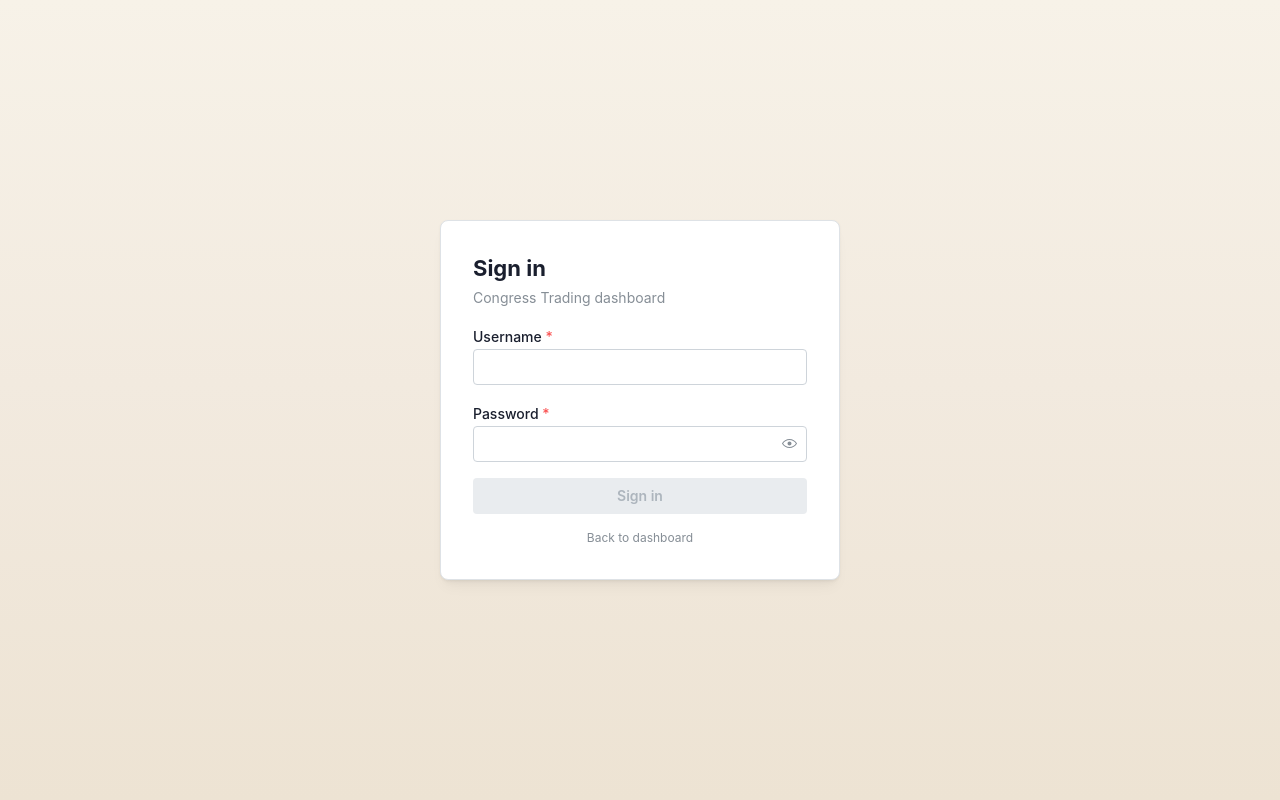
Test case: Login › shows a generic error and keeps the password on a non-401 failure
In the field labelled "Username *": (640, 367) [473,349,807,385], type "admin"
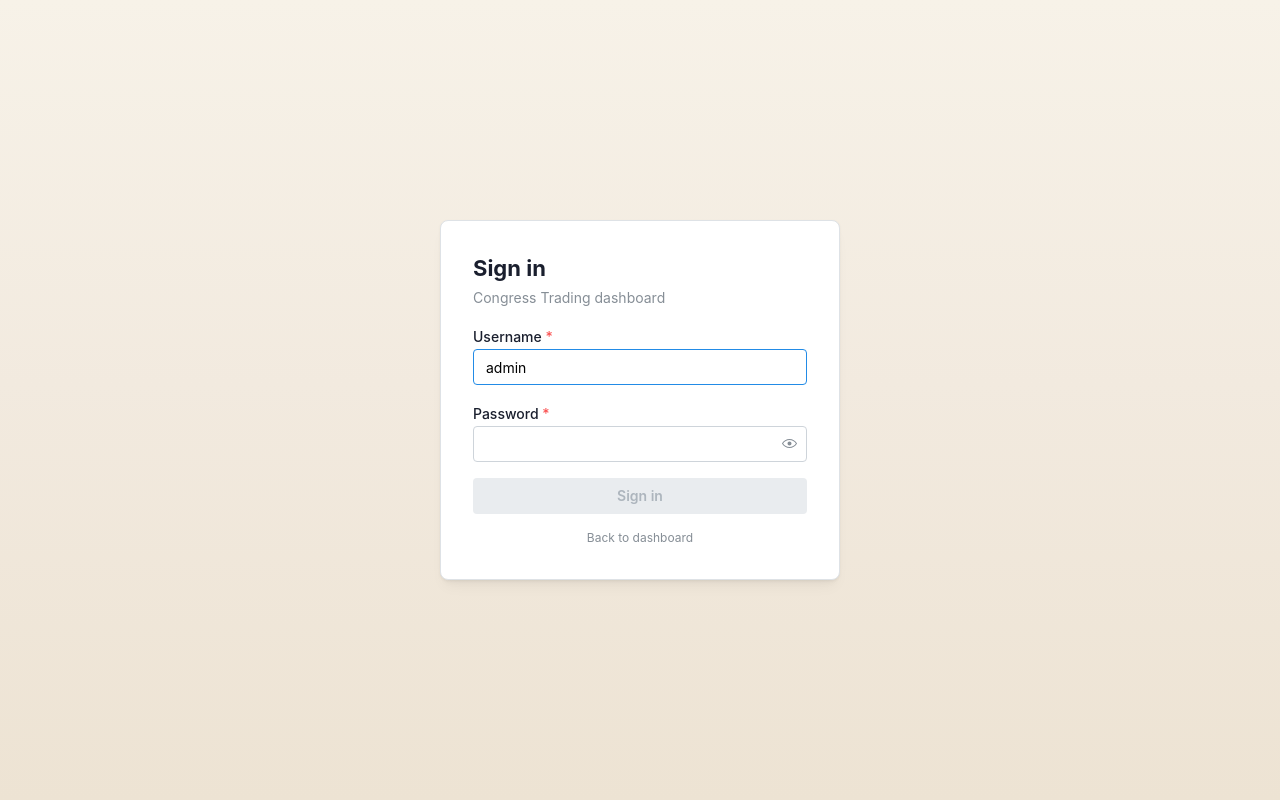
In the password field labelled "Password *": (640, 444) [474,427,806,461], type "secret"
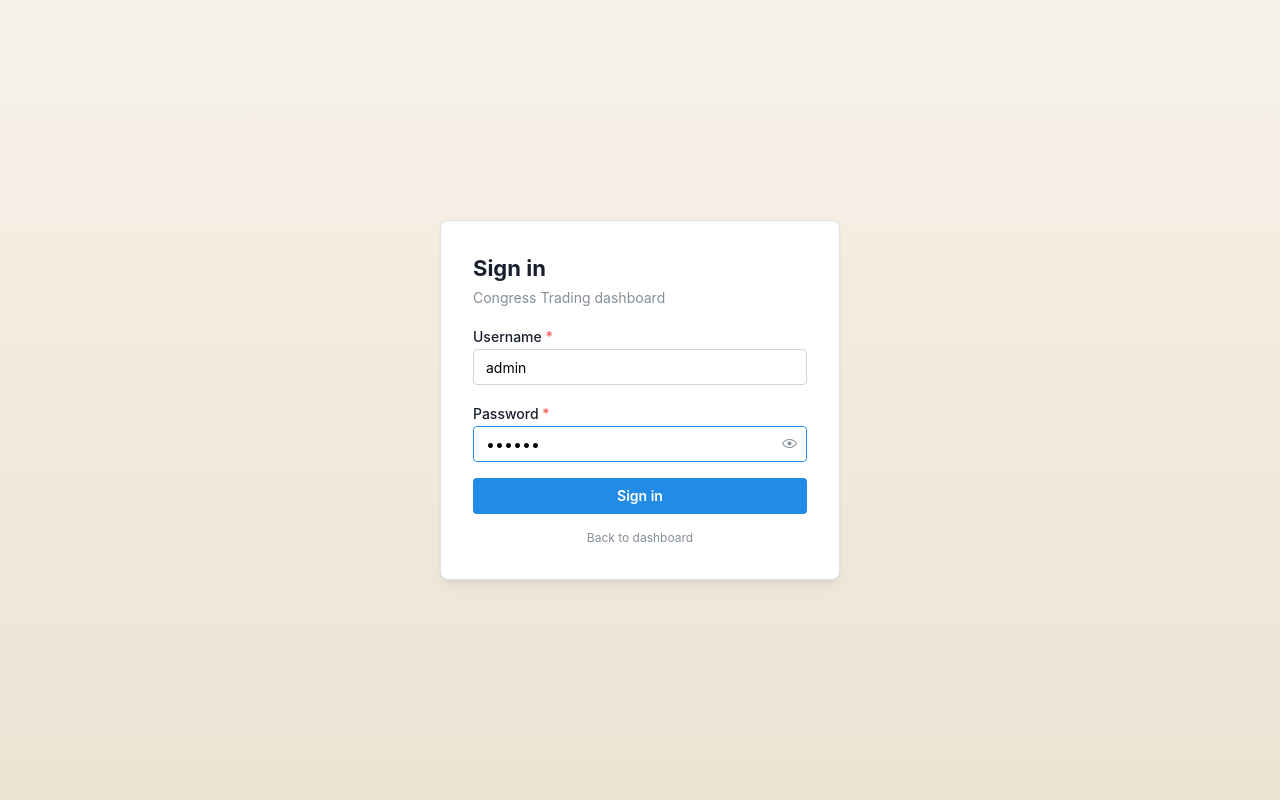
Click the button "Sign in": (640, 496) [473,478,807,514]
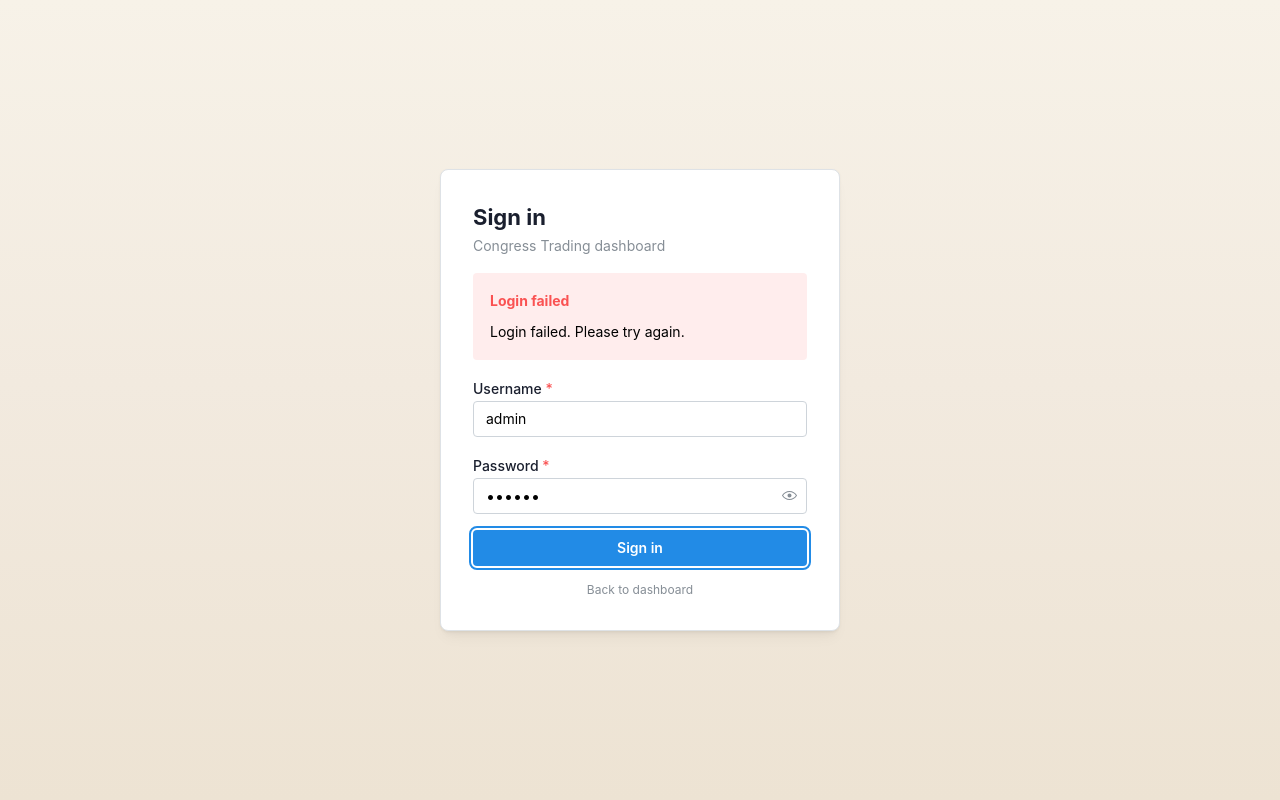
Now the message with test id "login-error" shows "Login failed", box [490,292,569,309]
